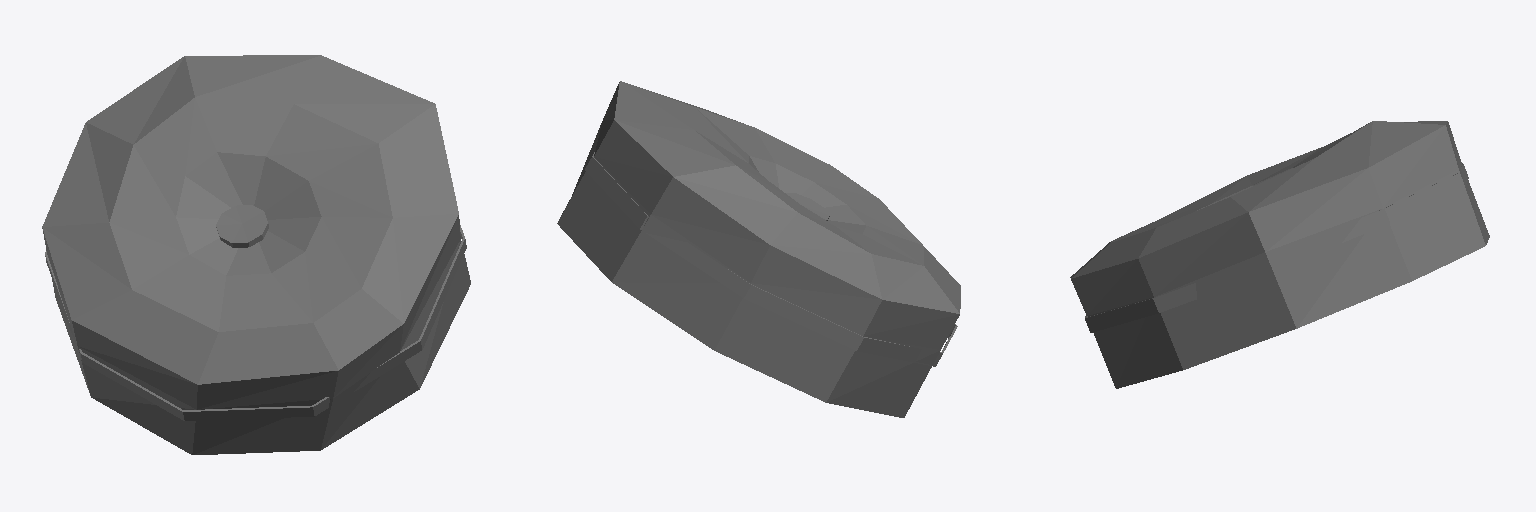
Rendered from PillowRound.obj.
3 renders of one model, left to right at view 1: azimuth 30°, elevation 25°; view 2: azimuth 150°, elevation 25°; view 3: azimuth 270°, elevation 25°, orthographic.
Visible parts, largest first — view 1: pCylinder16 circle_pillow1 witch_tower, circle_pillow1 witch_tower pCylinder18, circle_pillow1 witch_tower pCylinder17; view 2: pCylinder16 circle_pillow1 witch_tower, circle_pillow1 witch_tower pCylinder18; view 3: pCylinder16 circle_pillow1 witch_tower, circle_pillow1 witch_tower pCylinder18.
Part boxes in pixels (x1,y1,x2,y2): pCylinder16 circle_pillow1 witch_tower: (42,55,470,454); circle_pillow1 witch_tower pCylinder18: (45,225,466,420); circle_pillow1 witch_tower pCylinder17: (216,205,268,247); pCylinder16 circle_pillow1 witch_tower: (557,81,960,417); circle_pillow1 witch_tower pCylinder18: (585,152,957,366); pCylinder16 circle_pillow1 witch_tower: (1070,121,1489,388); circle_pillow1 witch_tower pCylinder18: (1085,163,1468,332).
Size of the model in its own units: 2.36 by 1.69 by 2.27.